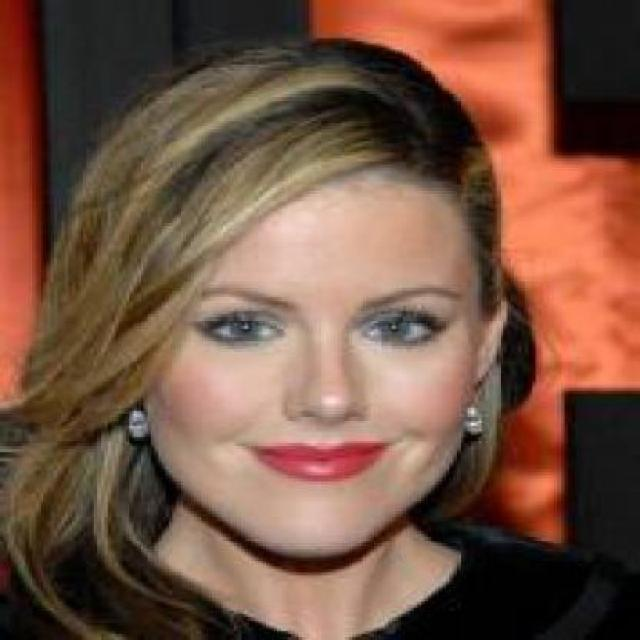closed-mouth: (240, 439, 394, 484)
